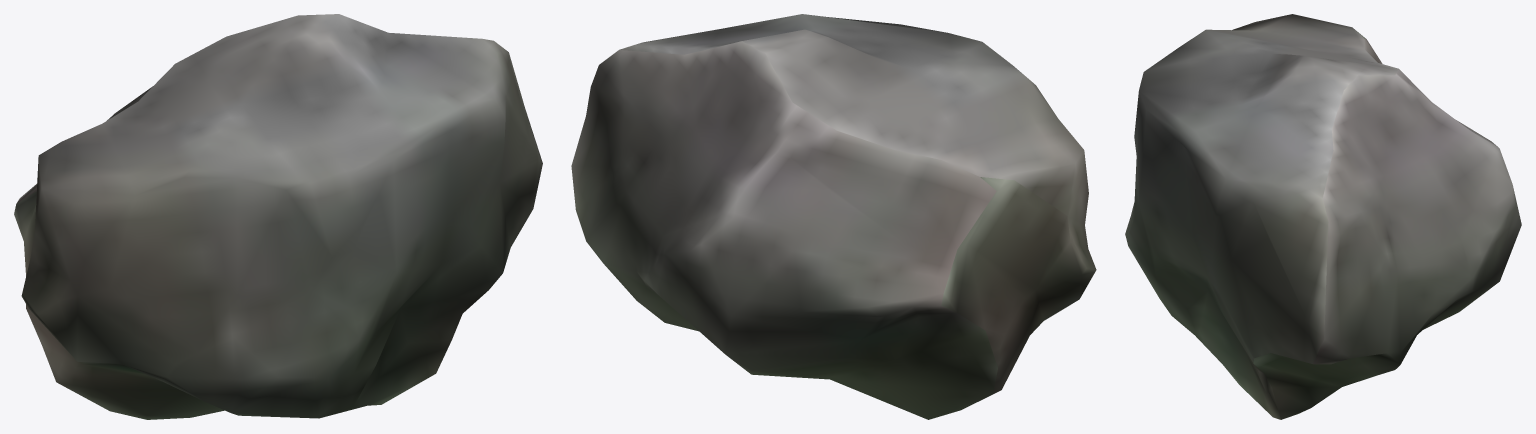
The model's file is rock-small.lod1.glb.
The picture shows the model from 3 angles, left to right: view 1: azimuth 30°, elevation 25°; view 2: azimuth 150°, elevation 25°; view 3: azimuth 270°, elevation 25°; orthographic projection. The views are drawn at different scales.
Visible parts, largest first — view 1: Small_3_SMall_0; view 2: Small_3_SMall_0; view 3: Small_3_SMall_0.
Part boxes in pixels (left/top/right/bottom): Small_3_SMall_0: left=14, top=14, right=542, bottom=419; Small_3_SMall_0: left=571, top=14, right=1096, bottom=419; Small_3_SMall_0: left=1125, top=14, right=1521, bottom=419.
Bounding box in the file's own units: 1.6 × 1.03 × 1.17.
1 material, 1 textured.
